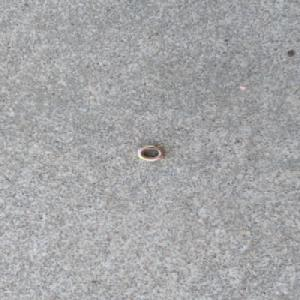Nut: (136, 144, 165, 162)
